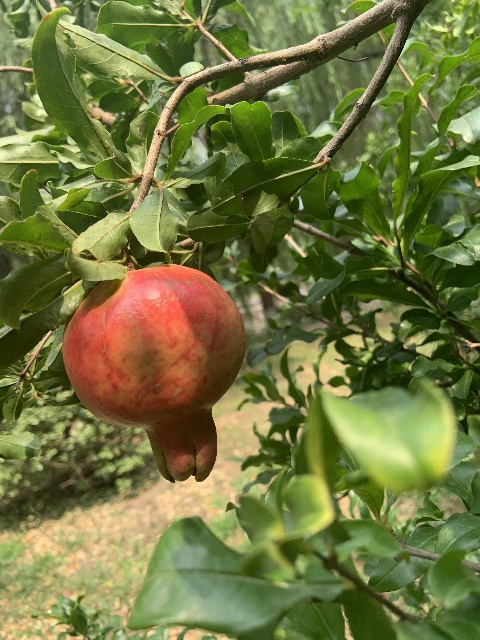ripe: (61, 263, 246, 483)
